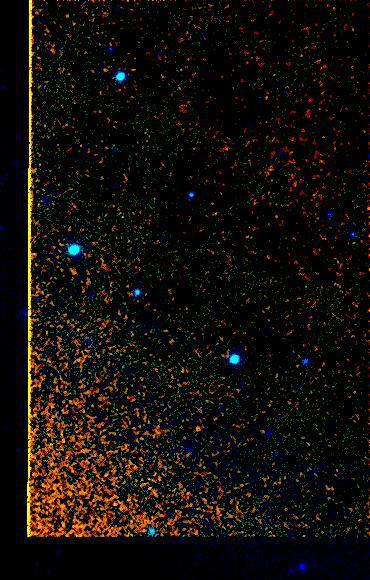star: (182, 412, 212, 442)
